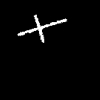single_crochet: (18, 15, 65, 42)
